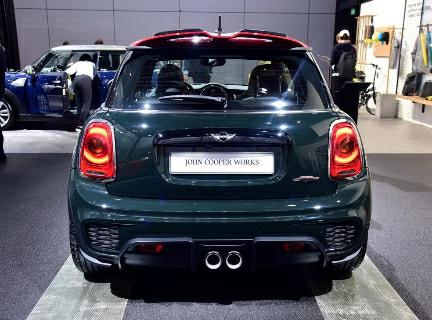MINI-JCW: (53, 25, 382, 310)
